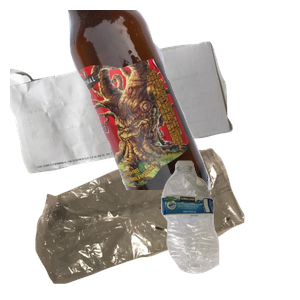glass: (65, 10, 300, 190)
paper: (10, 39, 236, 205)
plastic: (159, 158, 300, 300)
trash: (33, 145, 270, 300)
